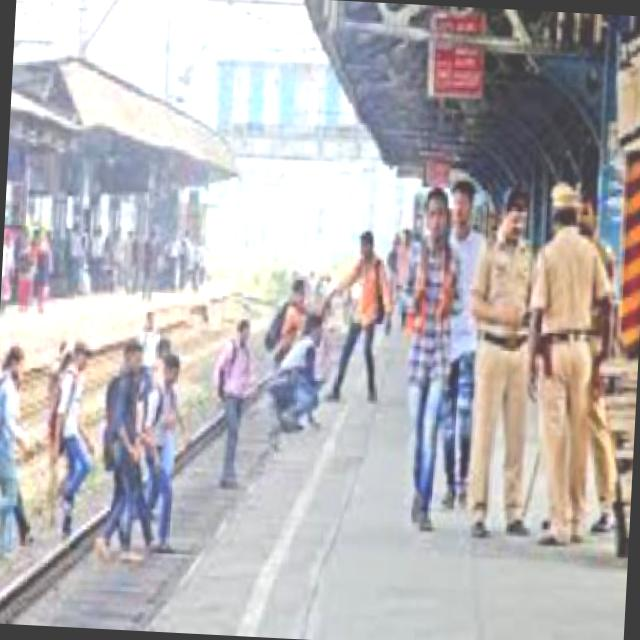Person: (96, 332, 156, 568), (140, 351, 188, 554), (214, 310, 256, 490)
